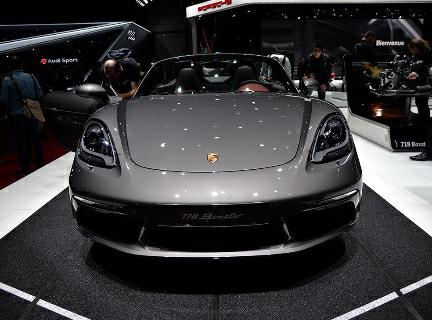保时捷-911: (69, 52, 369, 269)
